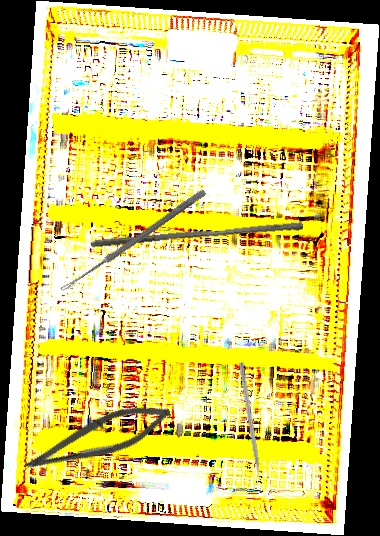Chopper: (232, 361, 264, 490)
Micro Scissor: (19, 390, 177, 490)
Pusher: (90, 214, 304, 256)
Surgical Spoon: (59, 187, 207, 295)
